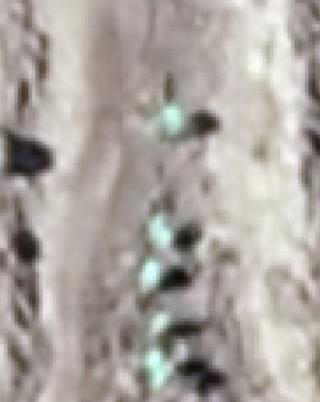cotton: (147, 352, 166, 385), (161, 103, 180, 133), (152, 219, 171, 245), (143, 261, 160, 285), (151, 312, 169, 333)
